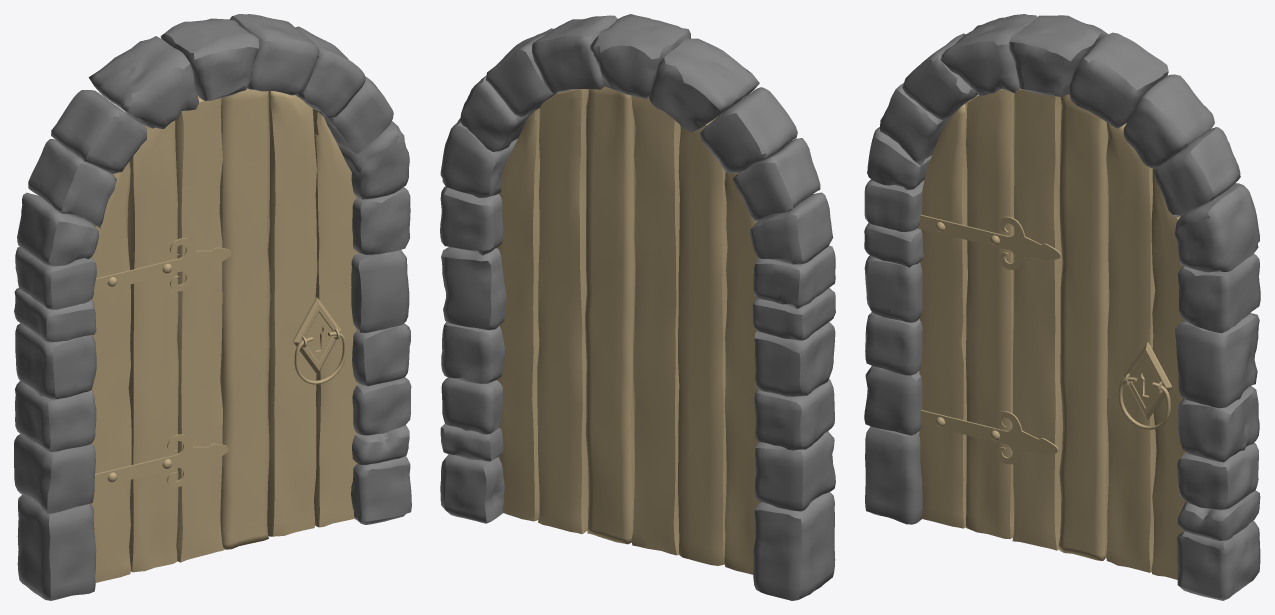
The model's file is door_ready.fbx.
The picture shows the model from 3 angles, left to right: view 1: azimuth 30°, elevation 25°; view 2: azimuth 150°, elevation 25°; view 3: azimuth 330°, elevation 25°; orthographic projection.
Parts seen in each view (by area): view 1: Door_low; view 2: Door_low; view 3: Door_low.
Part boxes in pixels (x1=…): Door_low: x1=14, y1=14, x2=411, y2=600; Door_low: x1=440, y1=14, x2=835, y2=600; Door_low: x1=864, y1=14, x2=1260, y2=600.
Size of the model in its own units: 11941 by 15940 by 2299.
